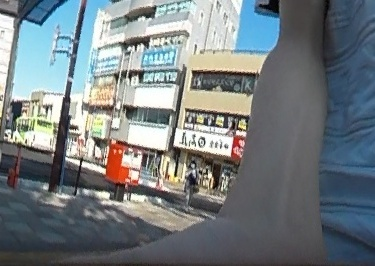person: (184, 159, 197, 209)
